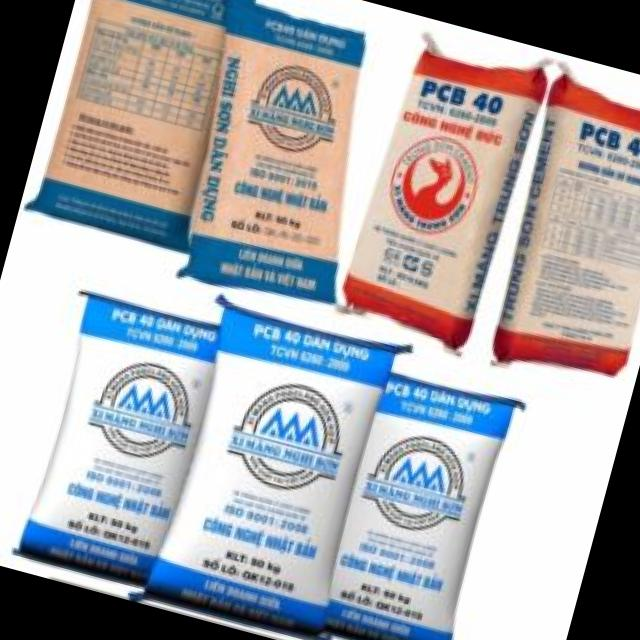KantongSemen: (137, 292, 404, 640), (12, 276, 245, 592), (328, 29, 558, 345), (172, 8, 406, 306), (306, 347, 542, 640), (30, 0, 277, 260), (500, 84, 640, 392)
